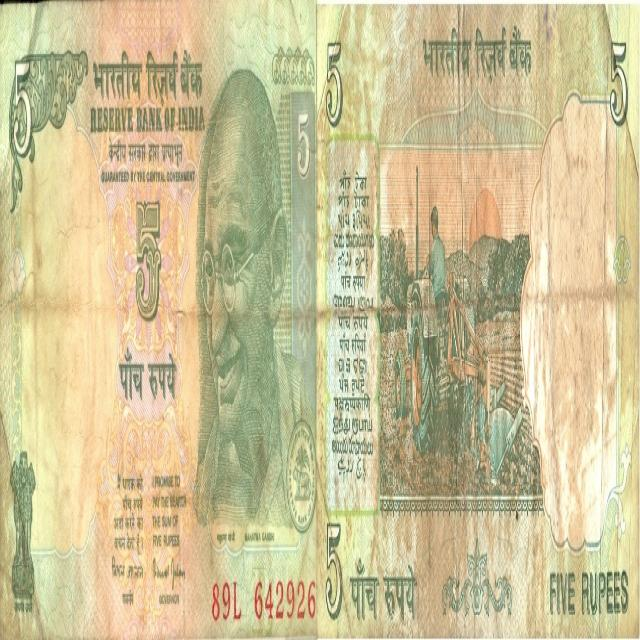5IndianRupees: (320, 0, 640, 640)
